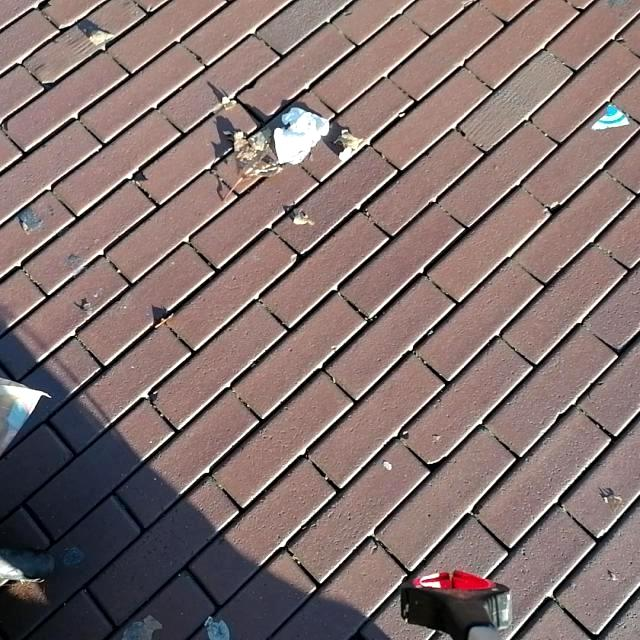Paper: (272, 106, 330, 166)
